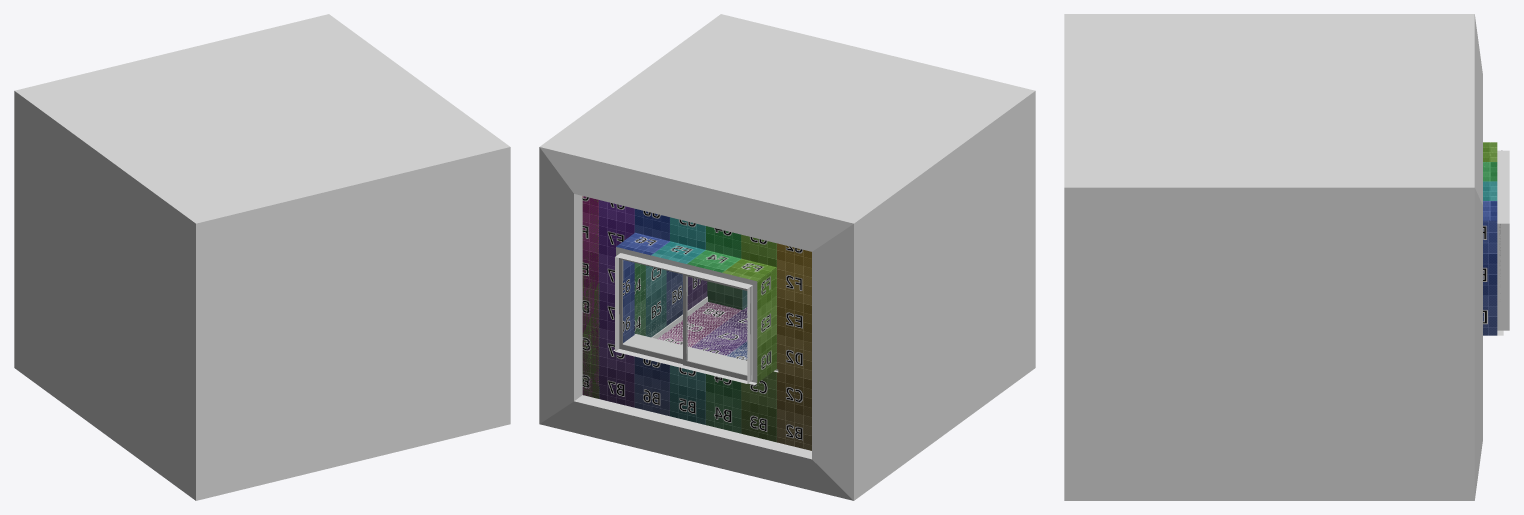
3 renders of one model, left to right at view 1: azimuth 30°, elevation 25°; view 2: azimuth 150°, elevation 25°; view 3: azimuth 270°, elevation 25°, orthographic. The views are drawn at different scales.
Visible parts, largest first — view 1: __LIGHT_BLOCKER__; view 2: __LIGHT_BLOCKER__, wall, wall.001, floor, Pillar (×2), __ROOM_FLOOR__floor, Window; view 3: __LIGHT_BLOCKER__, wall.
Part boxes in pixels (x1,y1,x2,y2): __LIGHT_BLOCKER__: (14,14,510,500); __LIGHT_BLOCKER__: (539,14,1035,500); wall: (582,196,811,450); wall.001: (634,263,707,337); floor: (658,302,747,360); Pillar (×2): (582,200,747,398); __ROOM_FLOOR__floor: (658,302,747,360); Window: (619,258,751,381); __LIGHT_BLOCKER__: (1064,14,1482,500); wall: (1483,142,1509,335).
Size of what is drawn, in the model's own units: 3.33 by 2.81 by 3.62.
10 materials, 5 textured.
